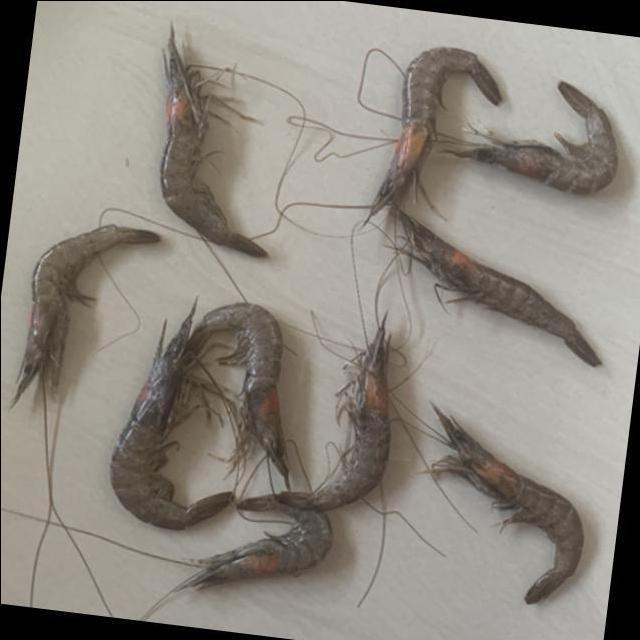shrimp: (396, 207, 602, 366), (433, 406, 585, 605), (237, 319, 392, 511), (109, 301, 233, 530), (11, 225, 158, 407), (160, 23, 267, 256), (370, 47, 502, 219), (140, 509, 332, 620), (447, 80, 618, 193), (186, 302, 289, 488)
